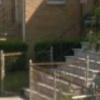stairs: (21, 38, 100, 100)
